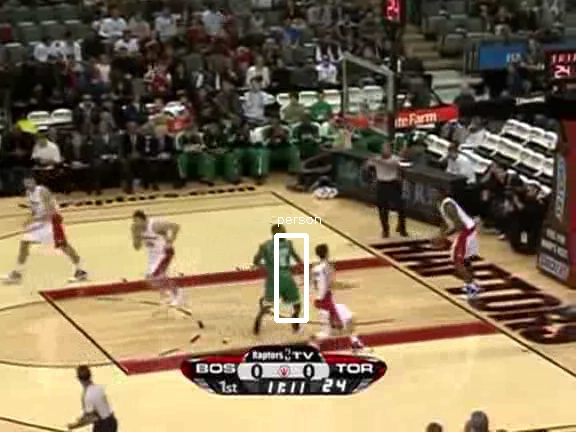person: (266, 229, 300, 310), (265, 229, 299, 310), (267, 229, 301, 310), (266, 228, 300, 309), (266, 230, 300, 311)
target_negative: (171, 59, 501, 334), (106, 279, 430, 373), (250, 103, 316, 386), (21, 292, 210, 366), (138, 51, 234, 75), (473, 49, 568, 66)
